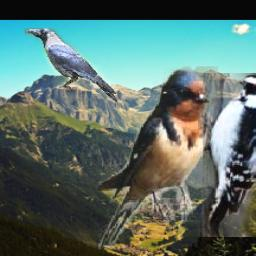Crow: (25, 29, 117, 102)
Swallow: (100, 67, 219, 250)
Woodpecker: (198, 74, 256, 238)
